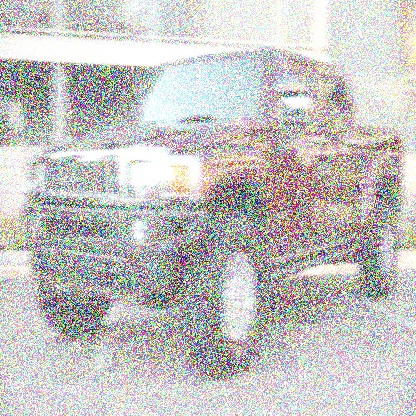Vehicle: (22, 44, 406, 378)
